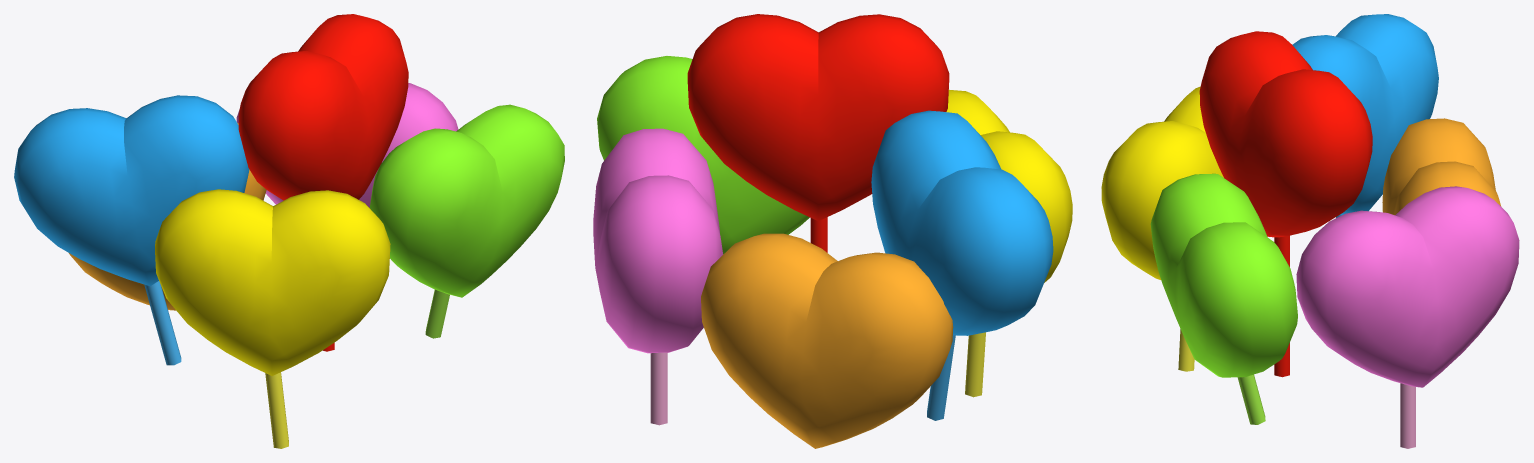
Rendered from Cake_ThemeValentine_E.FBX.
3 renders of one model, left to right at view 1: azimuth 30°, elevation 25°; view 2: azimuth 150°, elevation 25°; view 3: azimuth 270°, elevation 25°, orthographic. The views are drawn at different scales.
Parts seen in each view (by area): view 1: Cake_ThemeValentine_E; view 2: Cake_ThemeValentine_E; view 3: Cake_ThemeValentine_E.
Boxes of the visible parts, bbox=[...] form: Cake_ThemeValentine_E: bbox=[14, 14, 564, 448]; Cake_ThemeValentine_E: bbox=[593, 14, 1072, 448]; Cake_ThemeValentine_E: bbox=[1101, 14, 1519, 448].
Bounding box in the file's own units: 145722 × 103445 × 109861.
